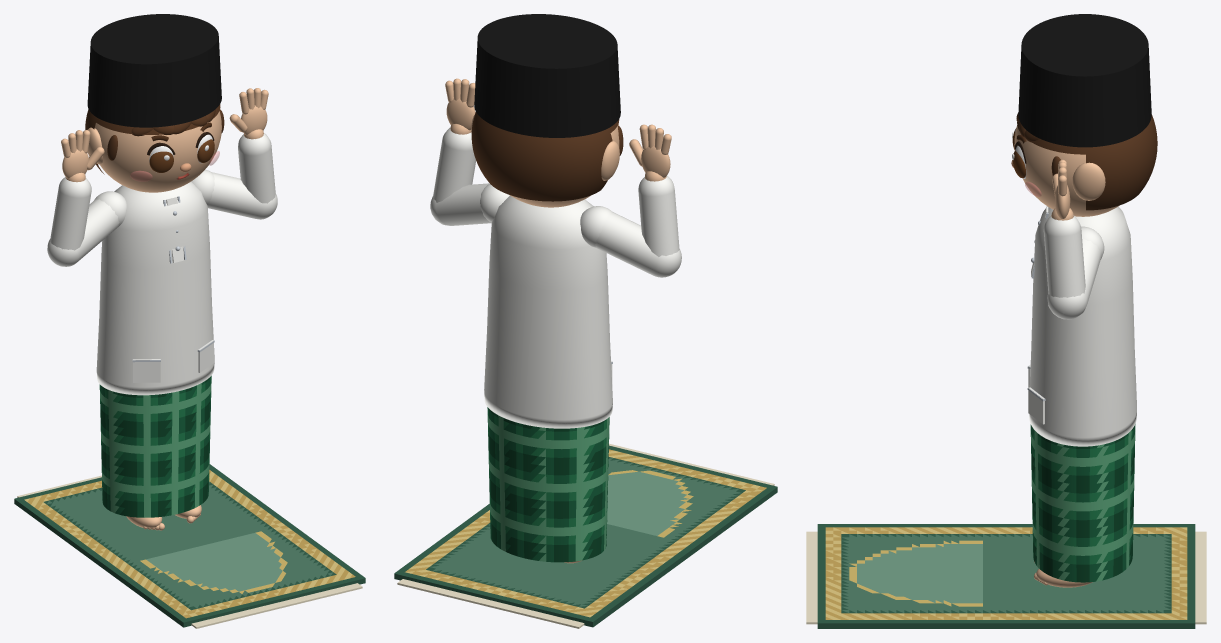
Rendered from takbir.glb.
3 renders of one model, left to right at view 1: azimuth 30°, elevation 25°; view 2: azimuth 150°, elevation 25°; view 3: azimuth 270°, elevation 25°, orthographic. The views are drawn at different scales.
Visible parts, largest first — view 1: Sajadah_motif, Baju_koko, Peci, Sarung, Kepala, Lengan_bawah.R, Lengan_bawah.L, Lengan_atas.L, Lengan_atas.R, Sajadah_dasar, Rumbai_1, Saku_-1 (+3 smaller); view 2: Baju_koko, Sajadah_motif, Peci, Sarung, Rambut_belakang, Lengan_atas.R, Lengan_bawah.R, Lengan_bawah.L, Sajadah_dasar, Lengan_atas.L, Rumbai_-1, Bahu.R (+4 smaller); view 3: Sajadah_motif, Baju_koko, Peci, Sarung, Rambut_belakang, Lengan_bawah.L, Kepala, Sajadah_dasar, Lengan_atas.L, Rumbai_-1, Rumbai_1, Telinga.L.
Boxes of the visible parts, x1,y1,x2,y2 form: Sajadah_motif: [15, 464, 364, 622]; Baju_koko: [96, 182, 214, 395]; Peci: [87, 14, 221, 127]; Sarung: [99, 375, 211, 517]; Kepala: [94, 111, 221, 192]; Lengan_bawah.R: [50, 177, 91, 250]; Lengan_bawah.L: [238, 133, 275, 203]; Lengan_atas.L: [207, 172, 277, 219]; Lengan_atas.R: [47, 199, 119, 266]; Sajadah_dasar: [14, 499, 365, 627]; Rumbai_1: [191, 583, 362, 628]; Saku_-1: [133, 359, 160, 382]; Baju_koko: [484, 195, 612, 428]; Sajadah_motif: [394, 445, 777, 621]; Peci: [474, 14, 620, 137]; Sarung: [487, 407, 609, 562]; Rambut_belakang: [471, 112, 612, 201]; Lengan_atas.R: [595, 212, 681, 277]; Lengan_bawah.R: [638, 176, 679, 256]; Lengan_bawah.L: [433, 127, 476, 202]; Sajadah_dasar: [394, 487, 777, 627]; Lengan_atas.L: [430, 183, 491, 225]; Rumbai_-1: [397, 579, 584, 628]; Bahu.R: [580, 206, 612, 247]; Sajadah_motif: [817, 524, 1195, 623]; Baju_koko: [1029, 206, 1136, 446]; Peci: [1018, 14, 1151, 147]; Sarung: [1030, 424, 1135, 582]; Rambut_belakang: [1086, 114, 1157, 210]; Lengan_bawah.L: [1043, 215, 1085, 297]; Kepala: [1014, 125, 1119, 216]; Sajadah_dasar: [817, 623, 1195, 628]; Lengan_atas.L: [1047, 238, 1101, 319]; Rumbai_-1: [1195, 531, 1206, 624]; Rumbai_1: [806, 531, 817, 624]; Telinga.L: [1072, 162, 1105, 200].
Size of the model in its own units: 0.57 by 1.16 by 0.784.
